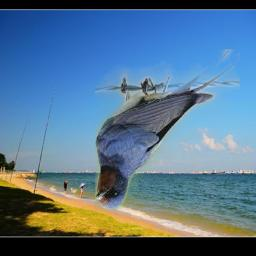Swallow: (95, 49, 240, 210)
